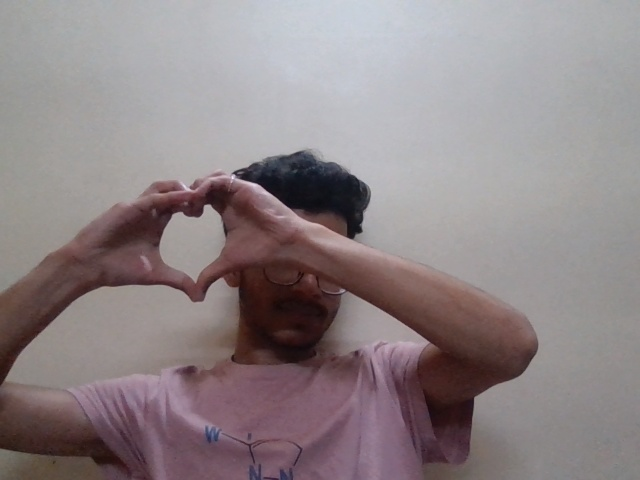silent-voice: (89, 172, 275, 326)
